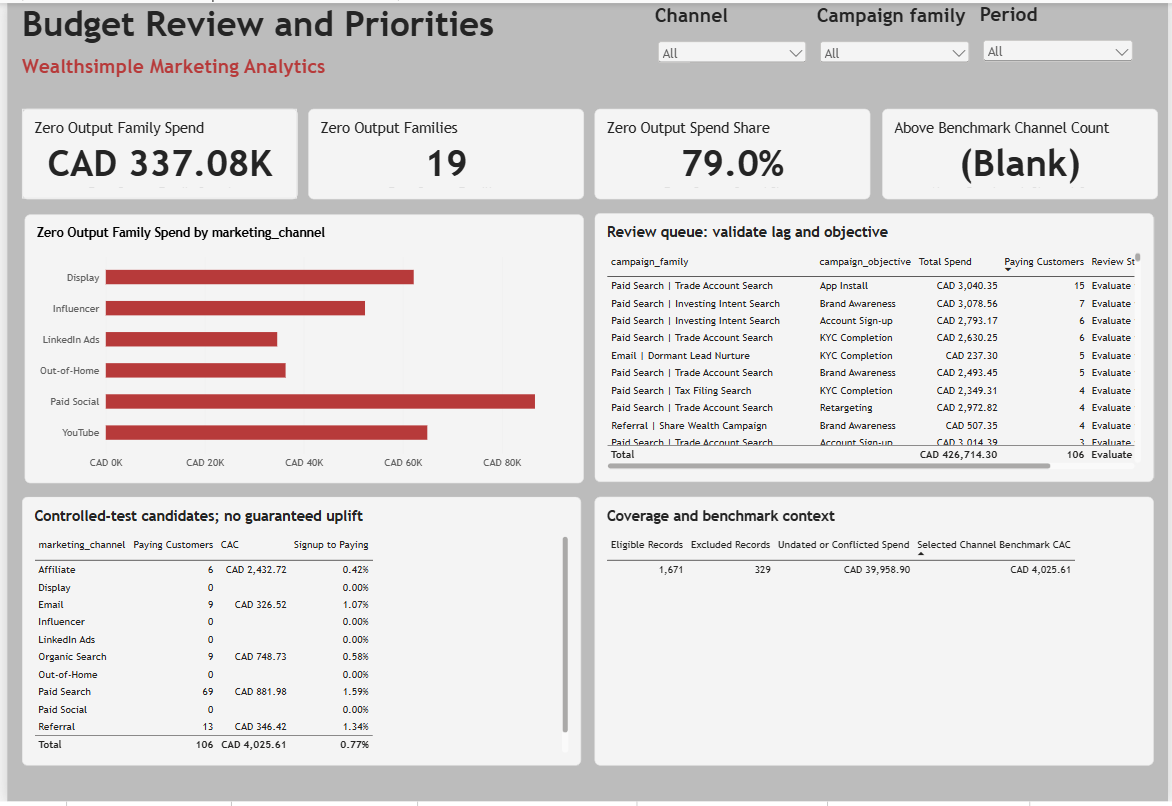

This screenshot's page, from the dashboard's own definition file:
{"tool":"powerbi","page":{"name":"Budget Optimization","canvas":[1600,1100],"ordinal":6},"visuals":[{"type":"slicer","title":"Channel","fields":{"Values":["Fact_Campaigns.marketing_channel"]},"box":[892.3,1.5,213.8,104.6],"z":0},{"type":"slicer","title":"Campaign family","fields":{"Values":["Fact_Campaigns.campaign_family"]},"box":[1115.4,1.5,215.4,104.6],"z":1000},{"type":"slicer","title":"Period","fields":{"Values":["Dim_Date.YearMonth"]},"box":[1340,0,215,105],"z":2000},{"type":"card","title":"Zero Output Family Spend","fields":{"Values":["Fact_Campaigns.Zero Output Family Spend"]},"box":[20,145,380,125],"z":3000},{"type":"card","title":"Zero Output Families","fields":{"Values":["Fact_Campaigns.Zero Output Families"]},"box":[415,145,380,125],"z":4000},{"type":"card","title":"Zero Output Spend Share","fields":{"Values":["Fact_Campaigns.Zero Output Spend Share"]},"box":[810,145,380,125],"z":5000},{"type":"card","title":"Above Benchmark Channel Count","fields":{"Values":["Fact_Campaigns.Above Benchmark Channel Count"]},"box":[1205,145,380,125],"z":6000},{"type":"clusteredBarChart","fields":{"Category":["Fact_Campaigns.marketing_channel"],"Y":["Fact_Campaigns.Zero Output Family Spend"]},"box":[24.6,290.8,770,370],"z":7000},{"type":"tableEx","title":"Review queue: validate lag and objective","fields":{"Values":["Fact_Campaigns.campaign_family","Fact_Campaigns.campaign_objective","Fact_Campaigns.Total Spend","Fact_Campaigns.Paying Customers","Fact_Campaigns.Review Status"]},"box":[810,290,770,370],"z":8000},{"type":"tableEx","title":"Controlled-test candidates; no guaranteed uplift","fields":{"Values":["Fact_Campaigns.marketing_channel","Fact_Campaigns.Paying Customers","Fact_Campaigns.CAC","Fact_Campaigns.Signup to Paying"]},"box":[20,680,770,370],"z":9000},{"type":"tableEx","title":"Coverage and benchmark context","fields":{"Values":["Fact_Campaigns.Eligible Records","Fact_Campaigns.Excluded Records","Fact_Campaigns.Undated or Conflicted Spend","Fact_Campaigns.Selected Channel Benchmark CAC"]},"box":[810,680,770,370],"z":10000},{"type":"textbox","box":[20.3,0,651.6,134.4],"z":11000}]}

Visuals, with their boxes in screenshot pixels (x1, y1, x2, y2), scaled from the page's 1600x1100 canvas onto the 1172x806 screenshot:
"Channel" slicer: {"left": 654, "top": 1, "right": 810, "bottom": 78}
"Campaign family" slicer: {"left": 817, "top": 1, "right": 975, "bottom": 78}
"Period" slicer: {"left": 982, "top": 0, "right": 1139, "bottom": 77}
"Zero Output Family Spend" card: {"left": 15, "top": 106, "right": 293, "bottom": 198}
"Zero Output Families" card: {"left": 304, "top": 106, "right": 582, "bottom": 198}
"Zero Output Spend Share" card: {"left": 593, "top": 106, "right": 872, "bottom": 198}
"Above Benchmark Channel Count" card: {"left": 883, "top": 106, "right": 1161, "bottom": 198}
clusteredBarChart - Fact_Campaigns.marketing_channel x Fact_Campaigns.Zero Output Family Spend: {"left": 18, "top": 213, "right": 582, "bottom": 484}
"Review queue: validate lag and objective" tableEx: {"left": 593, "top": 212, "right": 1157, "bottom": 484}
"Controlled-test candidates; no guaranteed uplift" tableEx: {"left": 15, "top": 498, "right": 579, "bottom": 769}
"Coverage and benchmark context" tableEx: {"left": 593, "top": 498, "right": 1157, "bottom": 769}
textbox: {"left": 15, "top": 0, "right": 492, "bottom": 98}
